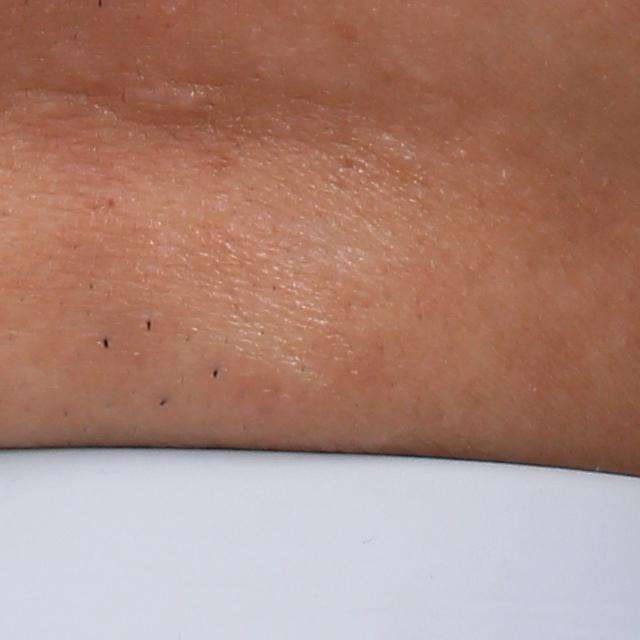hypertrophic_scar: (116, 70, 228, 117)
